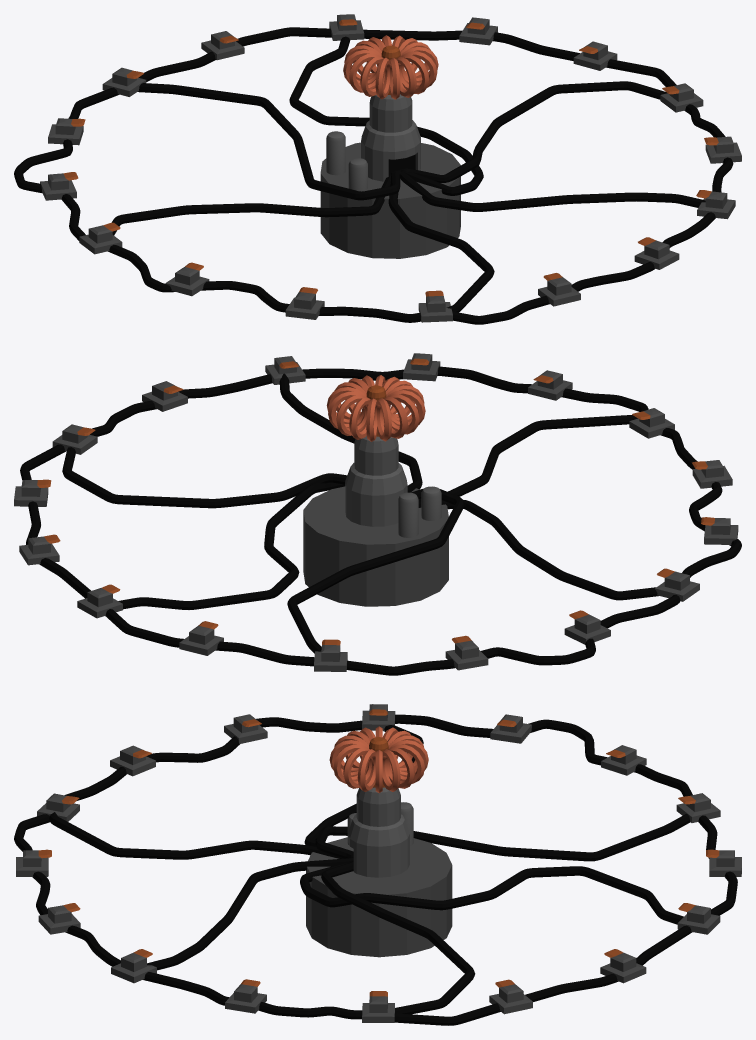
File: Omnishocker.fbx
3 views of the same model, one above another, from view 1: azimuth 30°, elevation 25°; view 2: azimuth 150°, elevation 25°; view 3: azimuth 270°, elevation 25° (orthographic). The views are drawn at different scales.
Visible parts, largest first — view 1: Omni Shocker, Relay.012, Relay.000, Relay.003, Relay.007, Relay.002, Relay.006, Relay.013, Relay.001, Relay.010, Relay.015, Relay.009 (+5 smaller); view 2: Omni Shocker, Relay.015, Relay.009, Relay.005, Relay.008, Relay.003, Relay.004, Relay.014, Relay.011, Relay.006, Relay.002, Relay.000 (+5 smaller); view 3: Omni Shocker, Relay.014, Relay.010, Relay.013, Relay.011, Relay.005, Relay.012, Relay.002, Relay.008, Relay.001, Relay.007, Relay.015 (+5 smaller).
Boxes of the visible parts, x1=… form: Omni Shocker: x1=14, y1=27, x2=733, y2=324; Relay.012: x1=634, y1=237, x2=679, y2=269; Relay.000: x1=538, y1=273, x2=580, y2=306; Relay.003: x1=79, y1=222, x2=122, y2=254; Relay.007: x1=165, y1=262, x2=209, y2=296; Relay.002: x1=285, y1=287, x2=324, y2=319; Relay.006: x1=418, y1=290, x2=452, y2=322; Relay.013: x1=696, y1=190, x2=735, y2=219; Relay.001: x1=660, y1=83, x2=703, y2=112; Relay.010: x1=573, y1=41, x2=617, y2=70; Relay.015: x1=40, y1=172, x2=78, y2=200; Relay.009: x1=201, y1=31, x2=244, y2=60; Omni Shocker: x1=20, y1=366, x2=741, y2=675; Relay.015: x1=564, y1=610, x2=610, y2=644; Relay.009: x1=179, y1=621, x2=223, y2=655; Relay.005: x1=77, y1=584, x2=122, y2=618; Relay.008: x1=445, y1=635, x2=488, y2=670; Relay.003: x1=655, y1=568, x2=699, y2=601; Relay.004: x1=314, y1=639, x2=347, y2=671; Relay.014: x1=19, y1=534, x2=60, y2=565; Relay.011: x1=142, y1=381, x2=187, y2=411; Relay.006: x1=629, y1=408, x2=674, y2=438; Relay.002: x1=692, y1=460, x2=732, y2=488; Relay.000: x1=528, y1=370, x2=572, y2=400; Omni Shocker: x1=14, y1=714, x2=737, y2=1025; Relay.014: x1=600, y1=949, x2=646, y2=983; Relay.010: x1=489, y1=979, x2=532, y2=1014; Relay.013: x1=111, y1=949, x2=156, y2=983; Relay.011: x1=225, y1=979, x2=266, y2=1013; Relay.005: x1=677, y1=903, x2=720, y2=934; Relay.012: x1=38, y1=903, x2=80, y2=934; Relay.002: x1=110, y1=745, x2=155, y2=776; Relay.008: x1=601, y1=745, x2=646, y2=775; Relay.001: x1=362, y1=991, x2=394, y2=1022; Relay.007: x1=224, y1=714, x2=267, y2=744; Relay.015: x1=490, y1=714, x2=531, y2=743.
Size of the model in its own units: 395 by 112 by 395.
